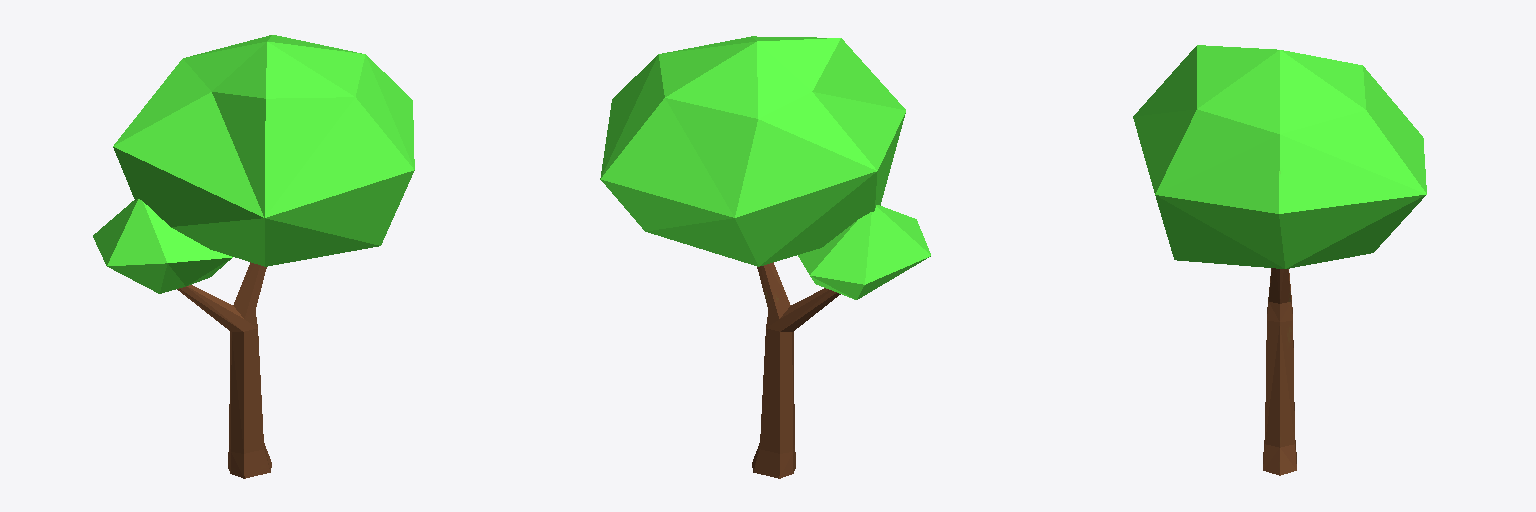
3 views of the same model, side by side, from view 1: azimuth 30°, elevation 25°; view 2: azimuth 150°, elevation 25°; view 3: azimuth 270°, elevation 25° (orthographic).
Parts seen in each view (by area): view 1: Tree.000; view 2: Tree.000; view 3: Tree.000.
Part boxes in pixels (bbox=[...]): Tree.000: bbox=[93, 35, 414, 478]; Tree.000: bbox=[600, 36, 930, 478]; Tree.000: bbox=[1133, 45, 1426, 475].
Bounding box in the file's own units: 1.65 × 2.14 × 1.35.
1 materials, 1 textured.